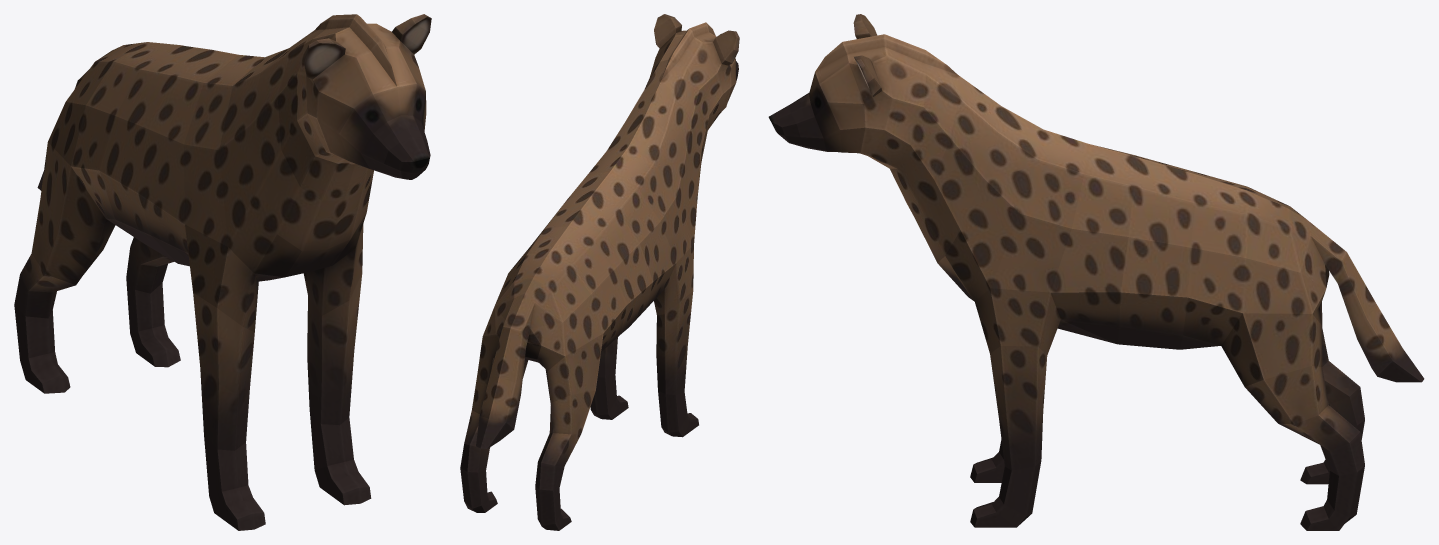
Rendered from hiena.glb.
The picture shows the model from 3 angles, left to right: view 1: azimuth 30°, elevation 25°; view 2: azimuth 150°, elevation 25°; view 3: azimuth 270°, elevation 25°; orthographic projection. The views are drawn at different scales.
Visible parts, largest first — view 1: SpottedHyena_mesh; view 2: SpottedHyena_mesh; view 3: SpottedHyena_mesh.
Boxes of the visible parts, left/top/right/bottom form: SpottedHyena_mesh: left=14, top=14, right=431, bottom=530; SpottedHyena_mesh: left=460, top=14, right=739, bottom=530; SpottedHyena_mesh: left=768, top=14, right=1424, bottom=530.
Size of the model in its own units: 1.09 by 3.43 by 4.36.
1 material, 1 textured.
